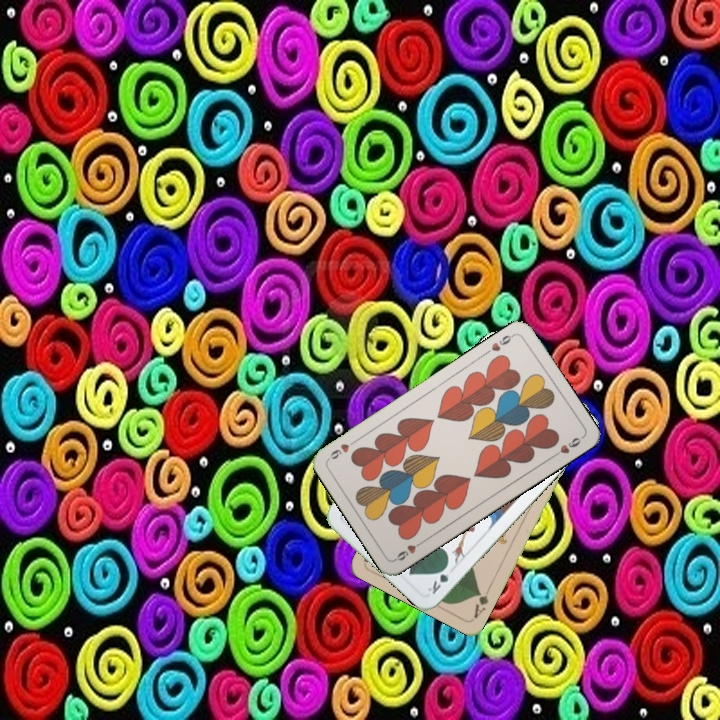GA: (469, 583, 493, 621)
GK: (423, 560, 452, 597)
H9: (391, 536, 427, 563), (481, 330, 517, 357)
